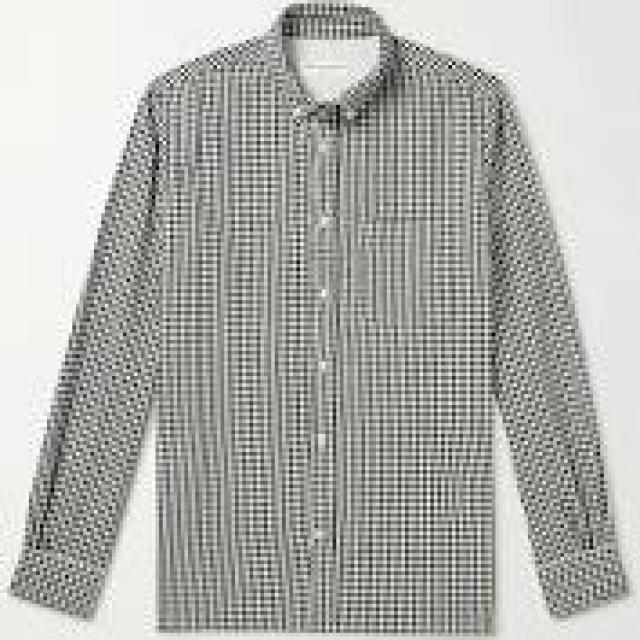plaid: (7, 3, 621, 640)
